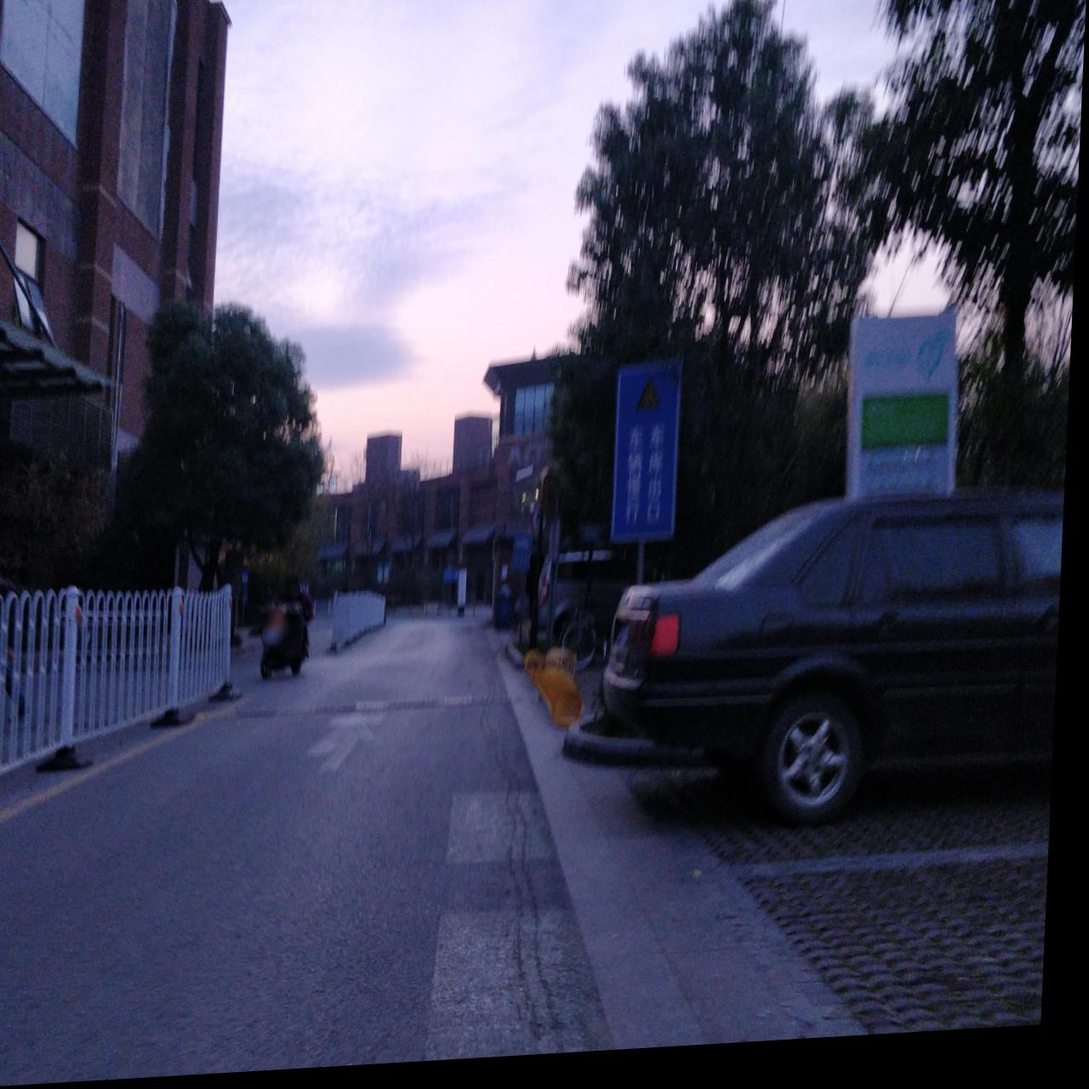bus: (568, 490, 1070, 848), (844, 316, 970, 516)
